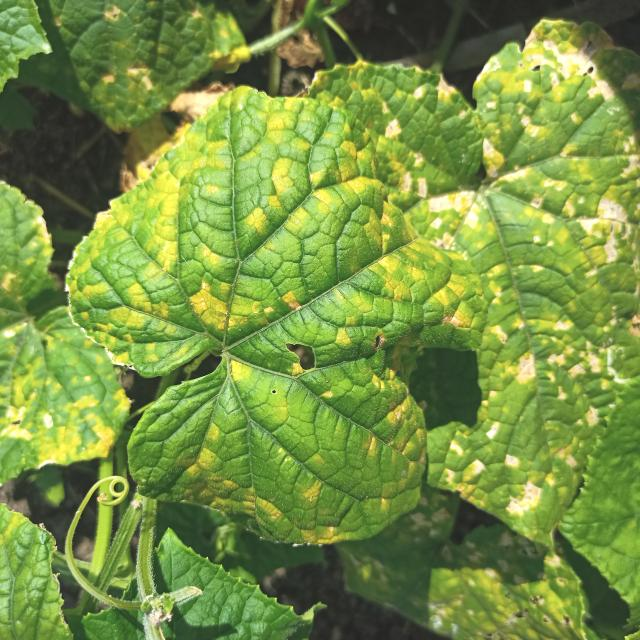disease_cucumber: (73, 93, 465, 544), (403, 22, 640, 528), (0, 332, 136, 480)
